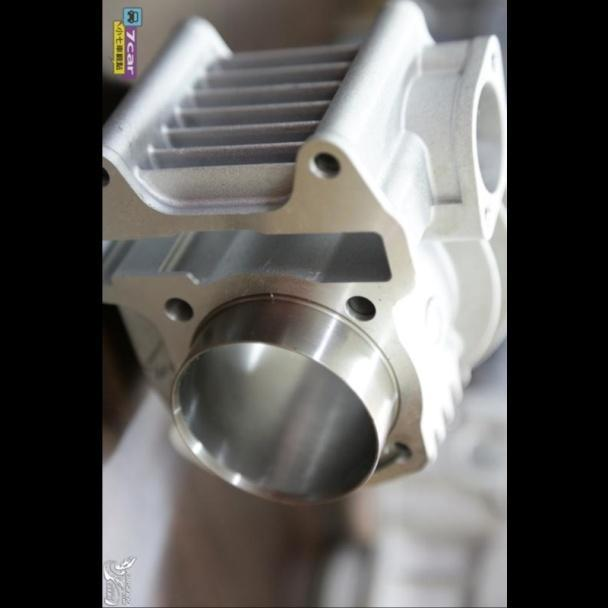hole: (305, 151, 342, 180), (342, 294, 377, 323), (157, 297, 196, 323)
